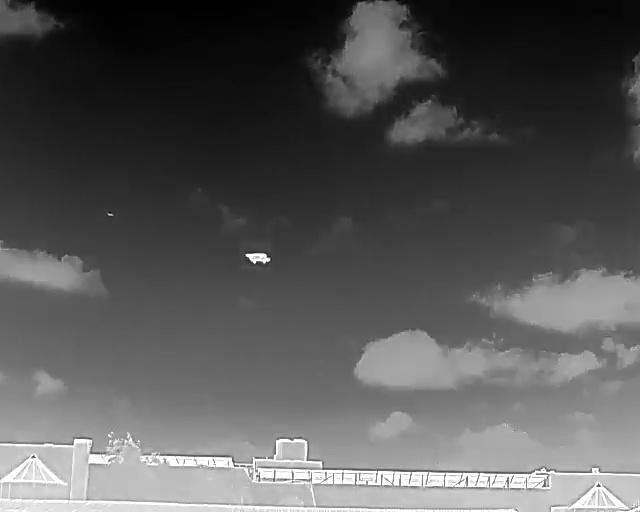fpv-drone: (245, 252, 270, 264)
